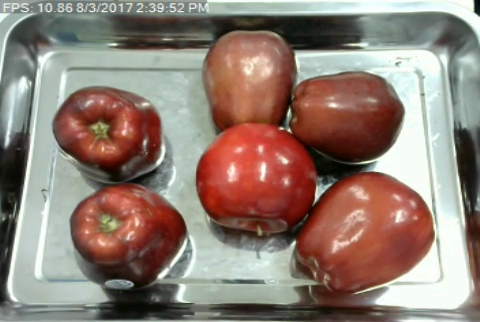Apple: (293, 170, 438, 295), (194, 118, 320, 236), (66, 182, 190, 290), (51, 81, 165, 183), (288, 69, 407, 165), (199, 26, 299, 133)
